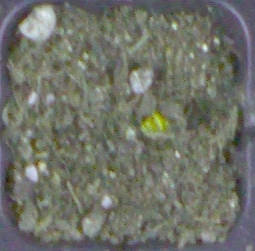pepper seed: (50, 40, 226, 179)
